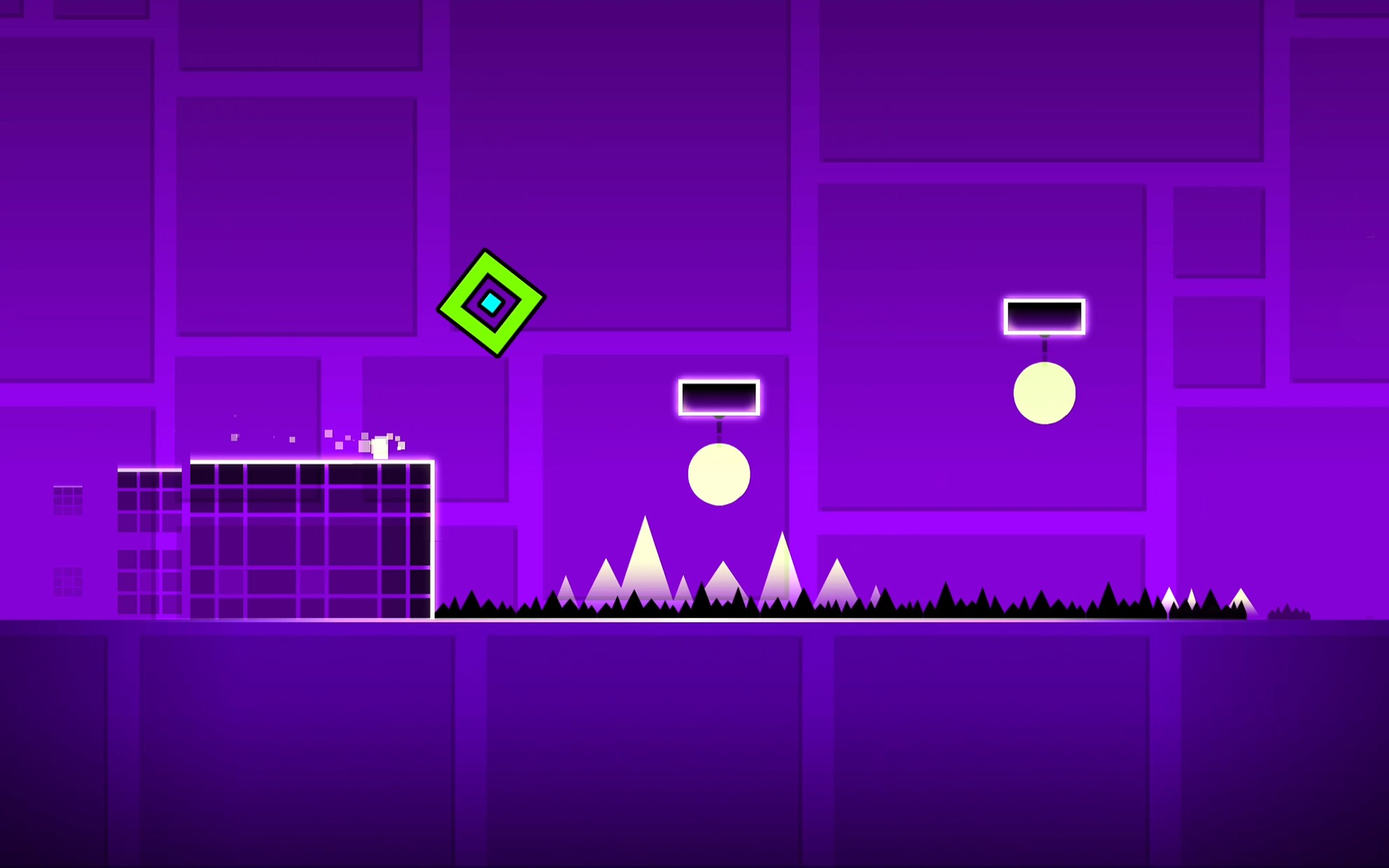Block2: (111, 461, 433, 619)
Block3: (1003, 298, 1087, 333), (678, 379, 760, 414)
Player: (436, 248, 545, 354)
Spike3: (440, 581, 1354, 621)
